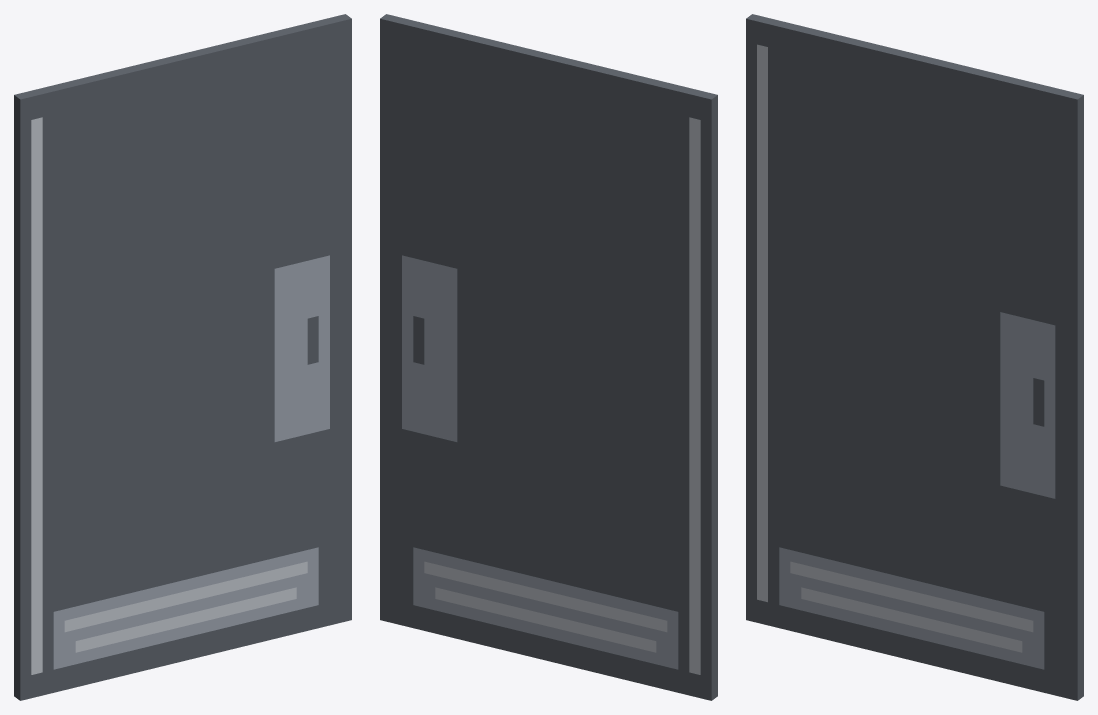
Rendered from bathroom-door.obj.
3 views of the same model, side by side, from view 1: azimuth 30°, elevation 25°; view 2: azimuth 150°, elevation 25°; view 3: azimuth 330°, elevation 25° (orthographic).
Size of the model in its own units: 3 by 5.2 by 0.1.
1 material, 1 textured.
